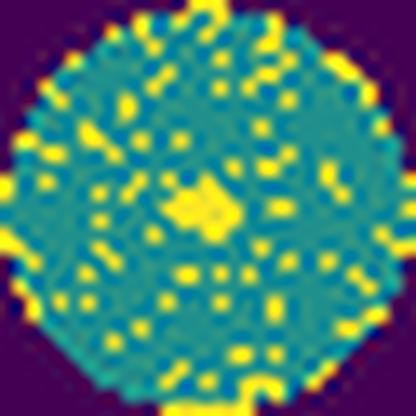Center: (156, 168, 256, 248)
